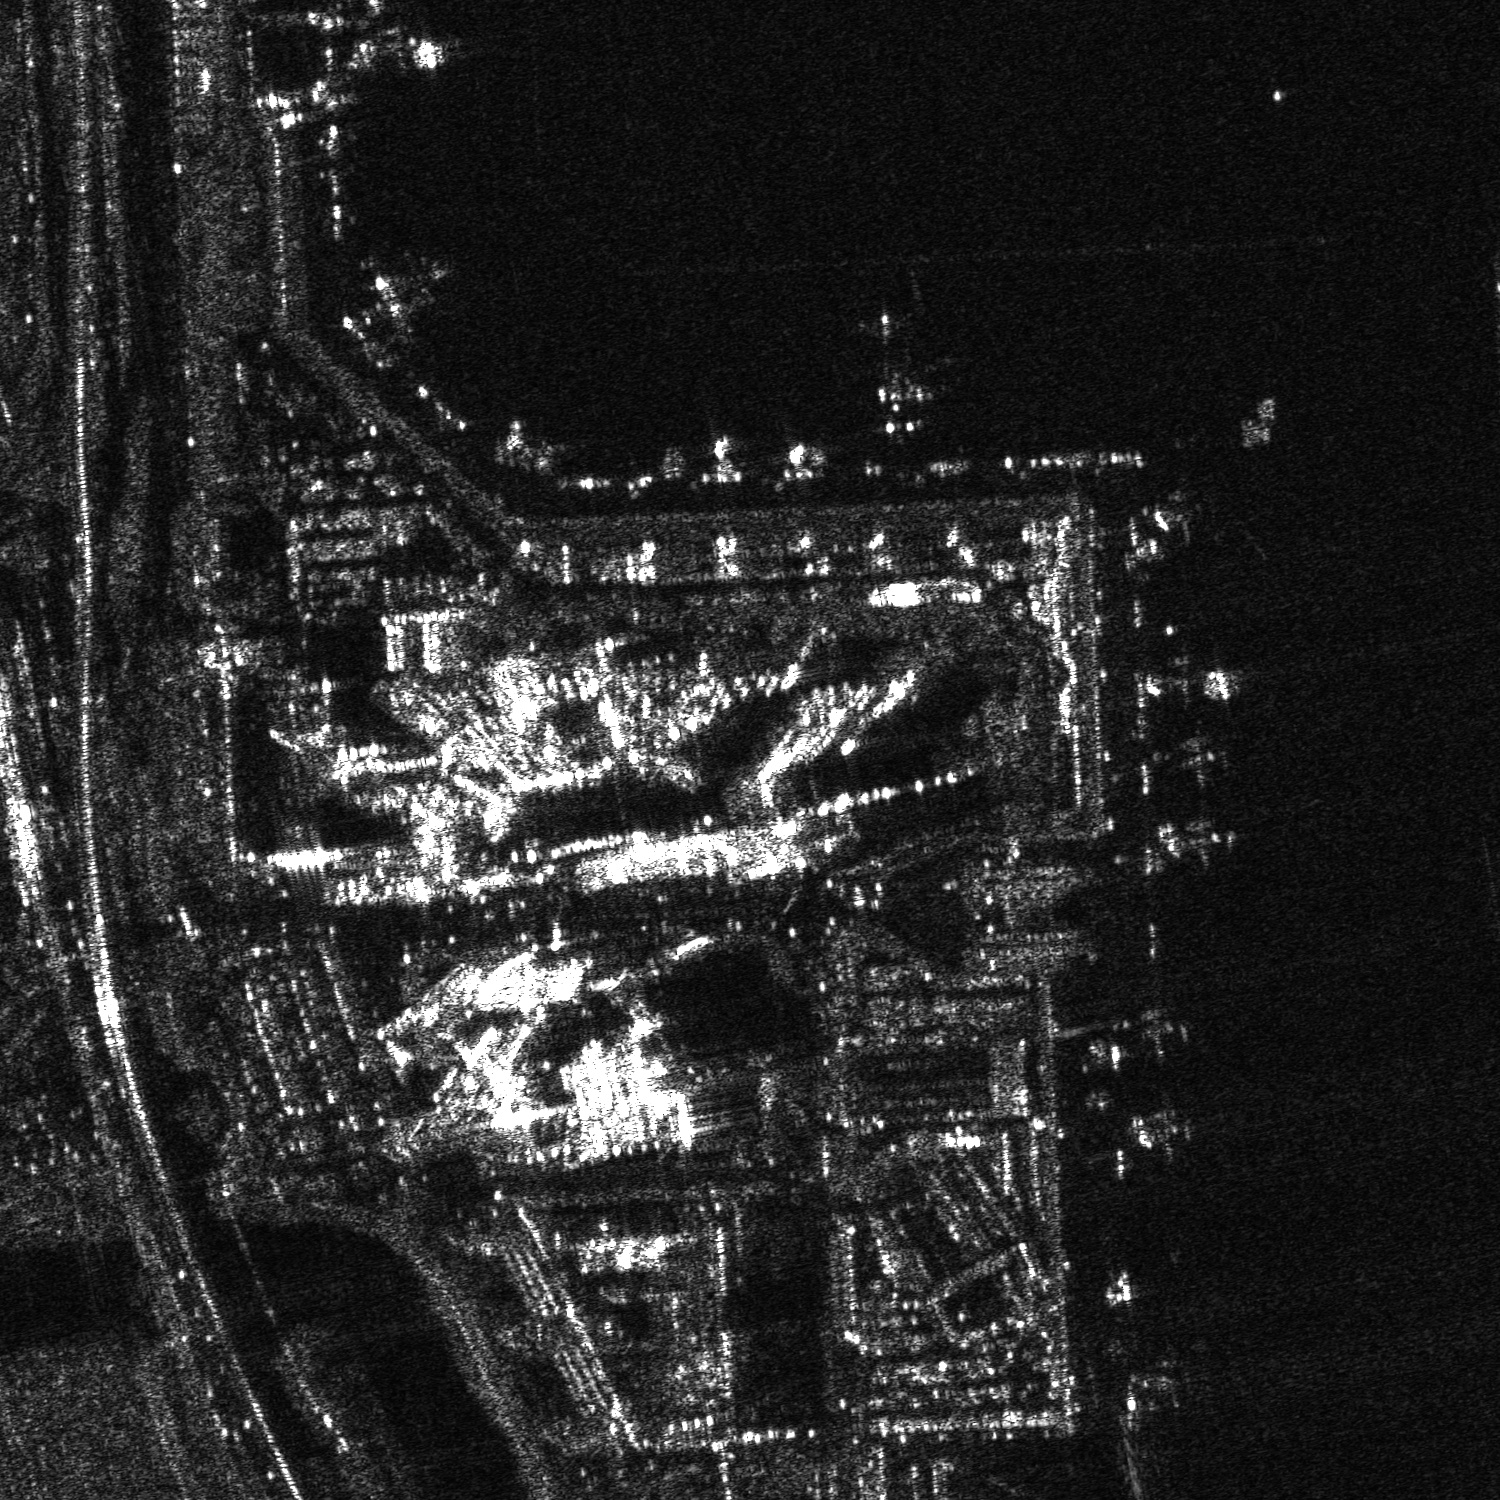A220: (1147, 644, 1245, 710), (1159, 806, 1249, 874), (1121, 1102, 1205, 1165), (1126, 995, 1201, 1065), (1124, 1346, 1198, 1413), (1162, 732, 1239, 793), (1143, 503, 1194, 560)
Boeing787: (826, 305, 973, 446)
